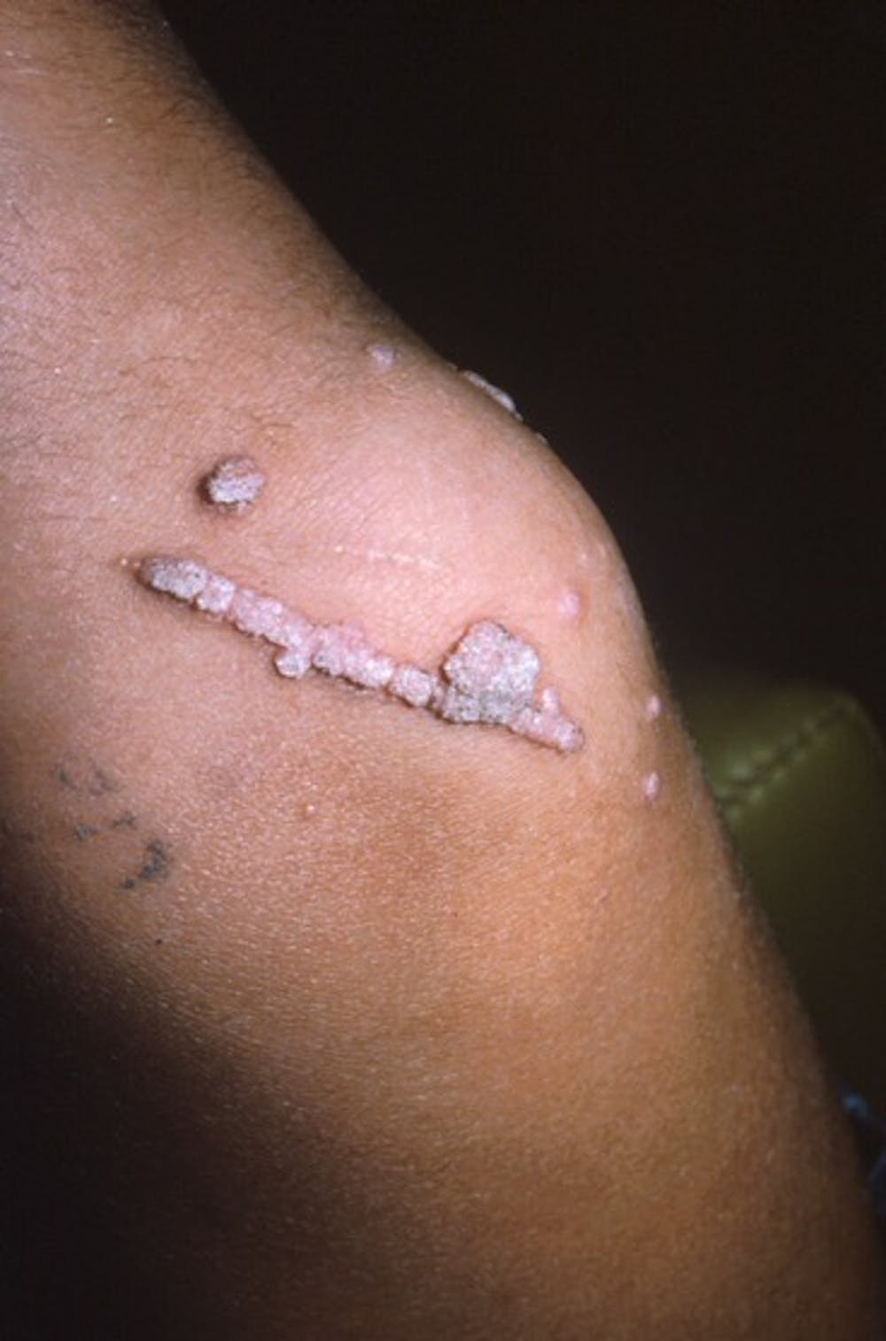Warts: (115, 306, 686, 837)
